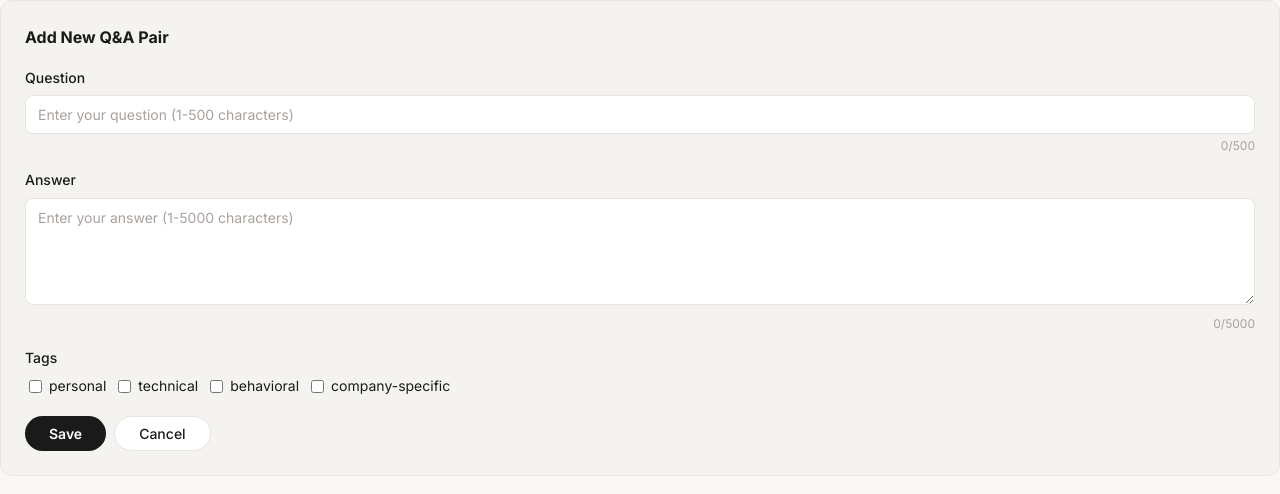
QAForm › shows validation error when answer is empty
The width and height of the screenshot is (1280, 494).
Type "A question?" into the field labelled "Question".
click(640, 114); type("A question?")  # box x1=25 y1=95 x2=1255 y2=134
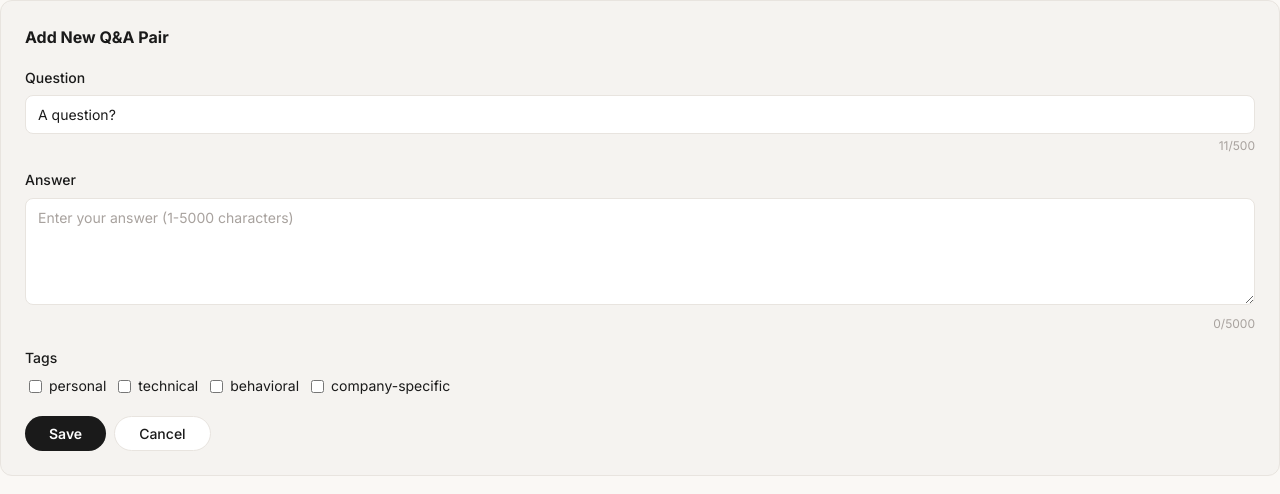
Click the button "Save".
click(66, 433)  # box x1=25 y1=416 x2=106 y2=450
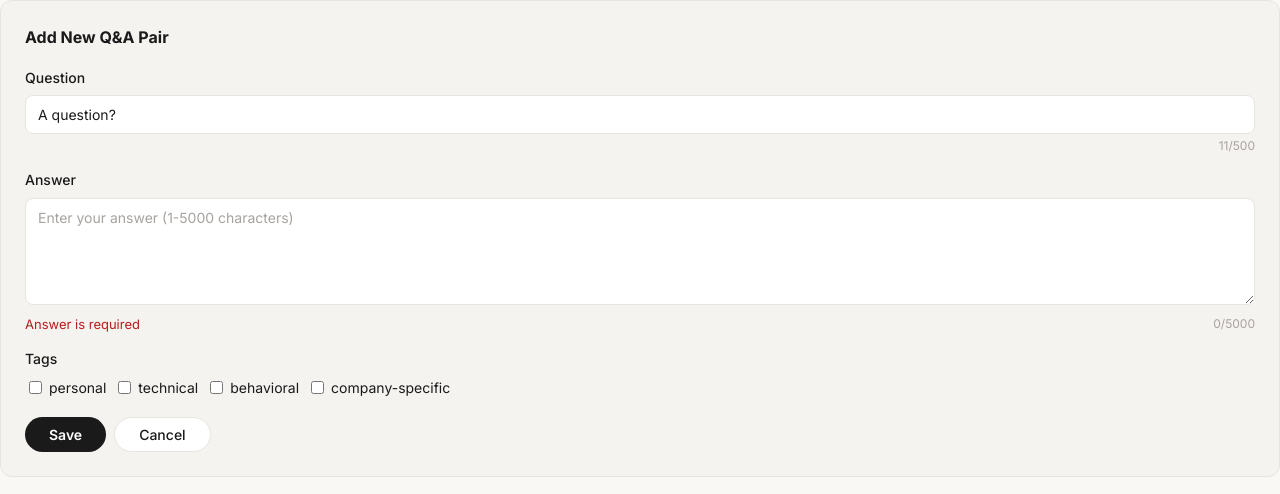
Result: the text "Answer is required" is shown at x1=25 y1=314 x2=140 y2=334
